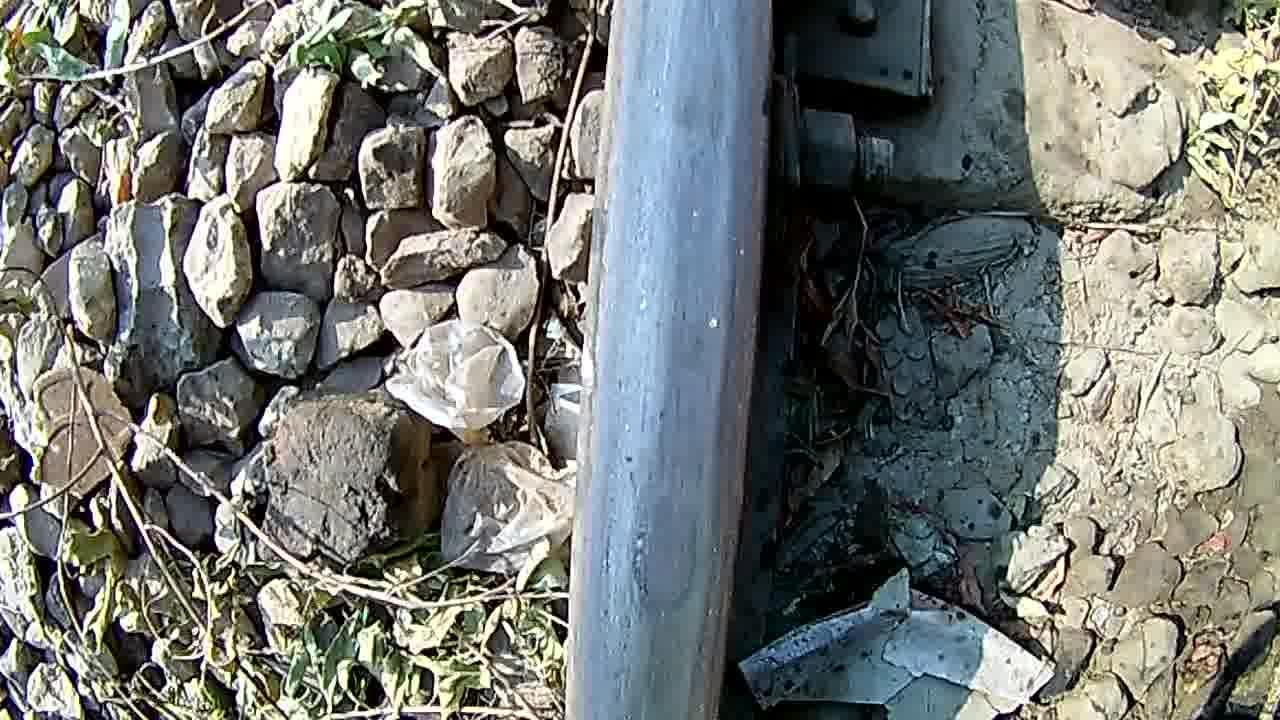crack: (582, 8, 774, 706)
